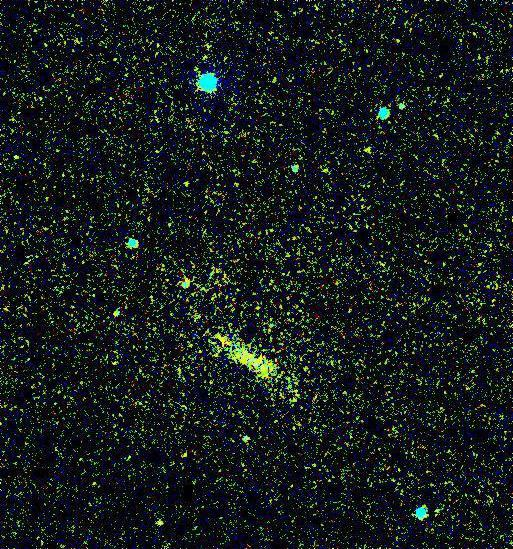star: (144, 509, 174, 539)
